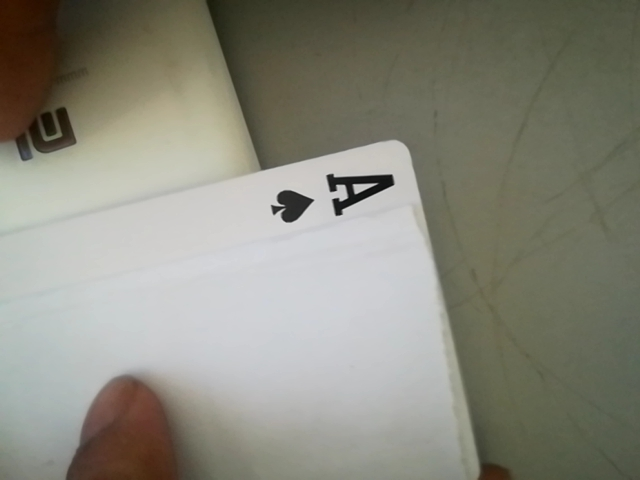ht a: (252, 158, 410, 231)
